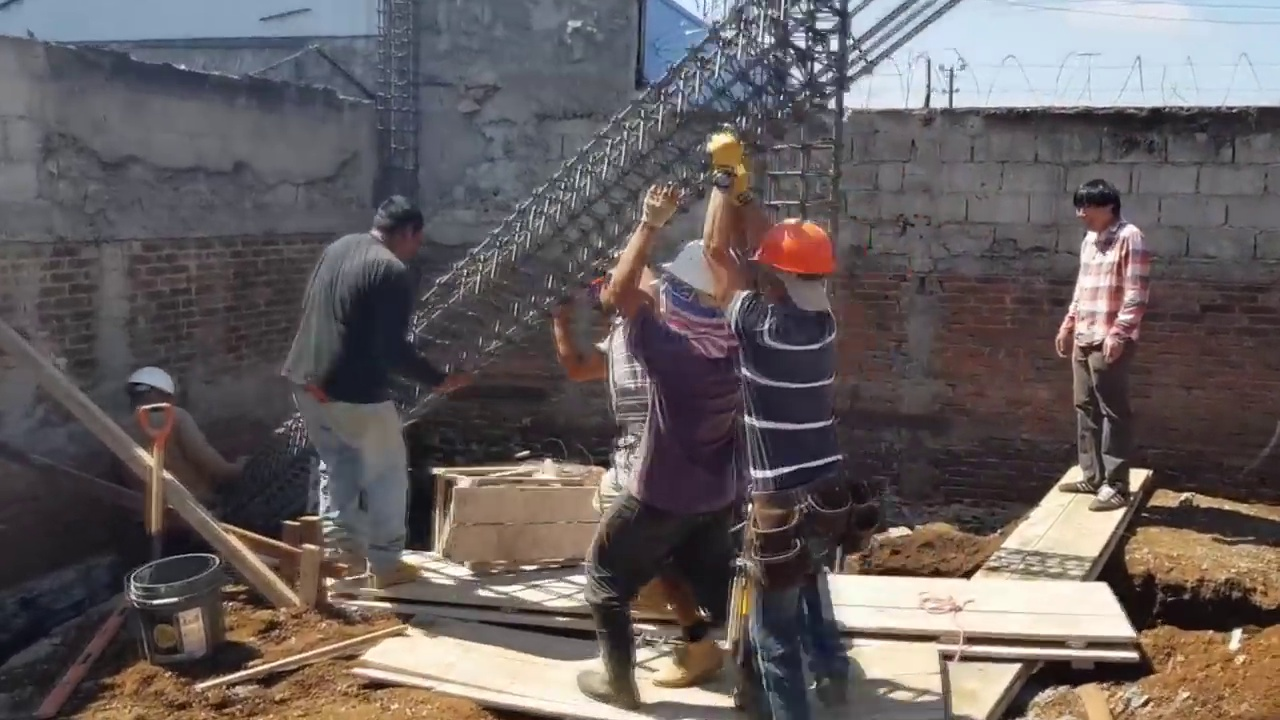helmet: (746, 220, 840, 289), (656, 239, 739, 307), (595, 252, 655, 304), (124, 367, 171, 396)
helmet-off: (363, 196, 421, 264), (1081, 180, 1130, 238)
helmet-on: (751, 200, 840, 328), (654, 241, 739, 337), (595, 251, 656, 337), (124, 368, 173, 411)
person: (588, 138, 763, 706), (714, 160, 856, 720), (293, 183, 424, 611), (1063, 182, 1155, 536), (548, 251, 656, 525), (120, 363, 255, 549)
